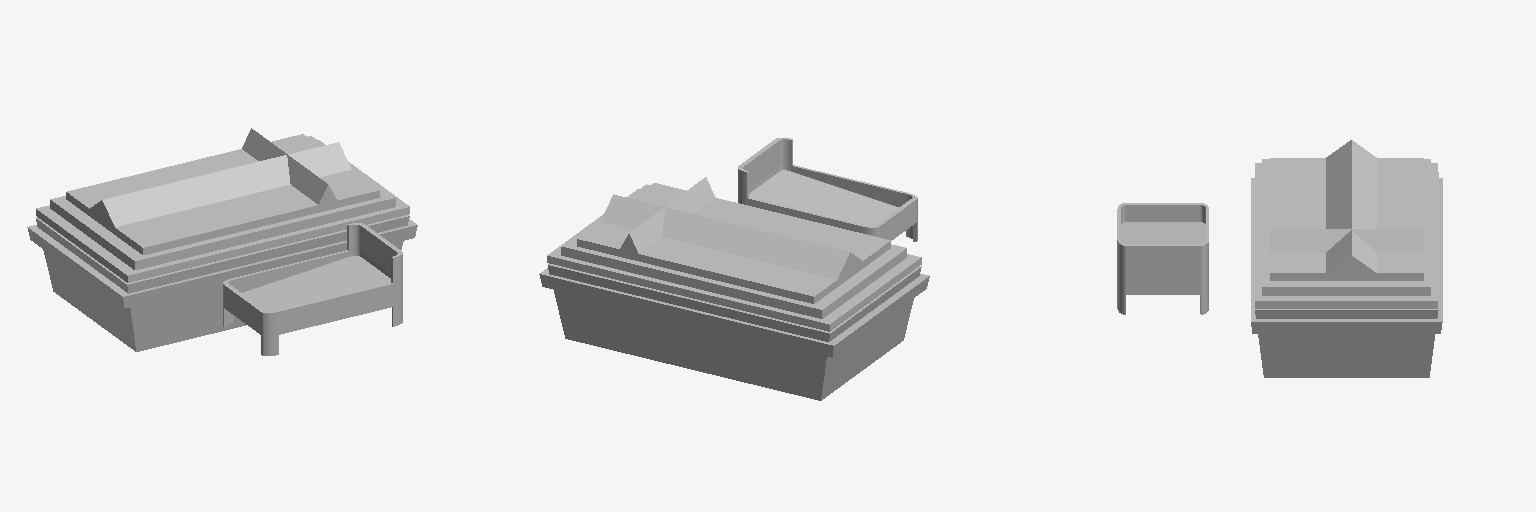
File: table2.obj
The picture shows the model from 3 angles: view 1: azimuth 30°, elevation 25°; view 2: azimuth 150°, elevation 25°; view 3: azimuth 270°, elevation 25°; orthographic projection.
Parts seen in each view (by area): view 1: Cube.001, Cube.002, Cube; view 2: Cube.001, Cube.002, Cube; view 3: Cube.001, Cube.002, Cube.
Part boxes in pixels (x1,y1,x2,y2): Cube.001: (36,128,409,282); Cube.002: (27,215,417,351); Cube: (223,223,402,355); Cube.001: (547,177,921,331); Cube.002: (539,264,929,400); Cube: (738,138,917,241); Cube.001: (1255,140,1437,308); Cube.002: (1251,172,1442,377); Cube: (1117,203,1208,314).
Size of the model in its own units: 33.39 by 12.81 by 31.86.